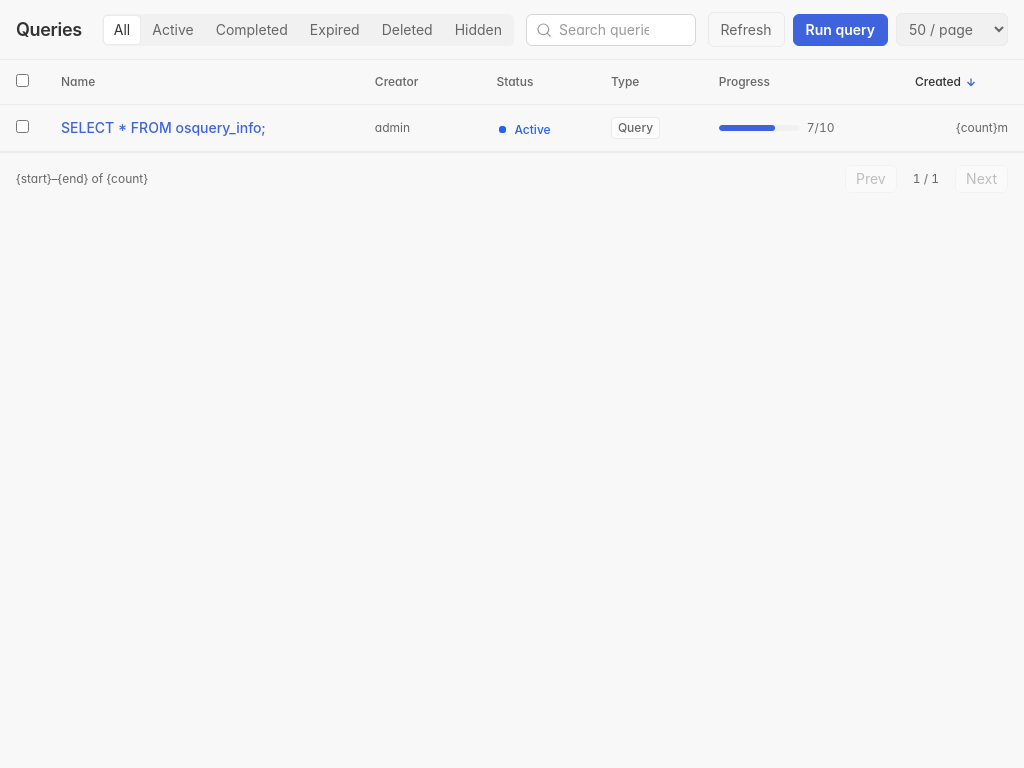
QueriesListPage › multi-select dock toolbar appears when rows are checked
This screenshot has width=1024, height=768.
Expected: the link "SELECT * FROM osquery_info;" is shown, x1=61 y1=119 x2=265 y2=136
Click the checkbox named "select query q_test_0001".
click(22, 126)  # box x1=16 y1=120 x2=29 y2=133
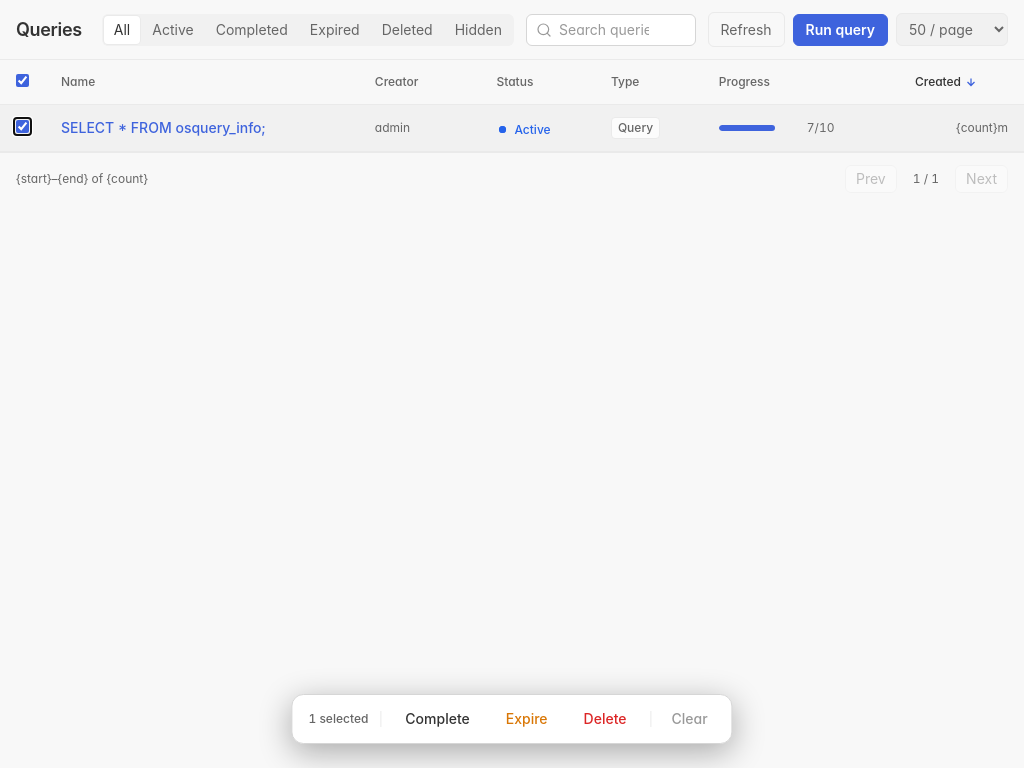
Result: the element named "bulk actions" is shown at x1=291 y1=694 x2=733 y2=744
Result: the text "1 selected" is shown at x1=308 y1=711 x2=368 y2=727
